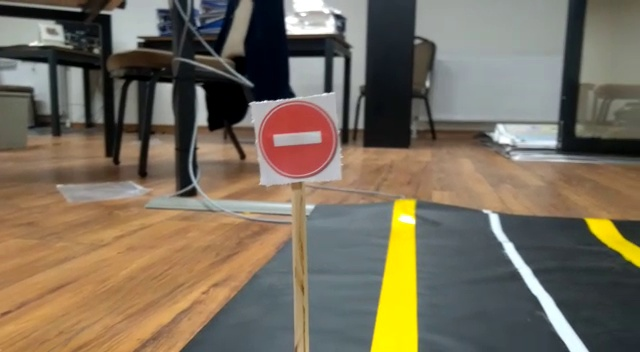girisi_olmayan_yol: (259, 100, 335, 178)
